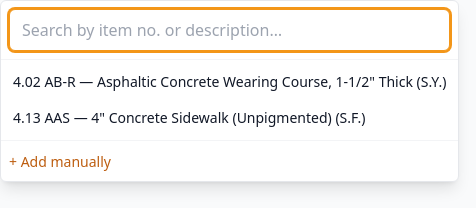
Test: PayItemPicker › says so when nothing matches
Type "barrier" into the field named "Search pay items" at (230, 30), box x1=9 y1=9 x2=450 y2=51
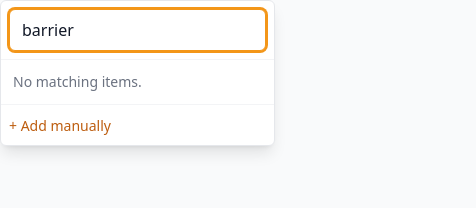
Check: the list is gone
Check: the text "No matching items." is shown, box x1=13 y1=72 x2=142 y2=91
